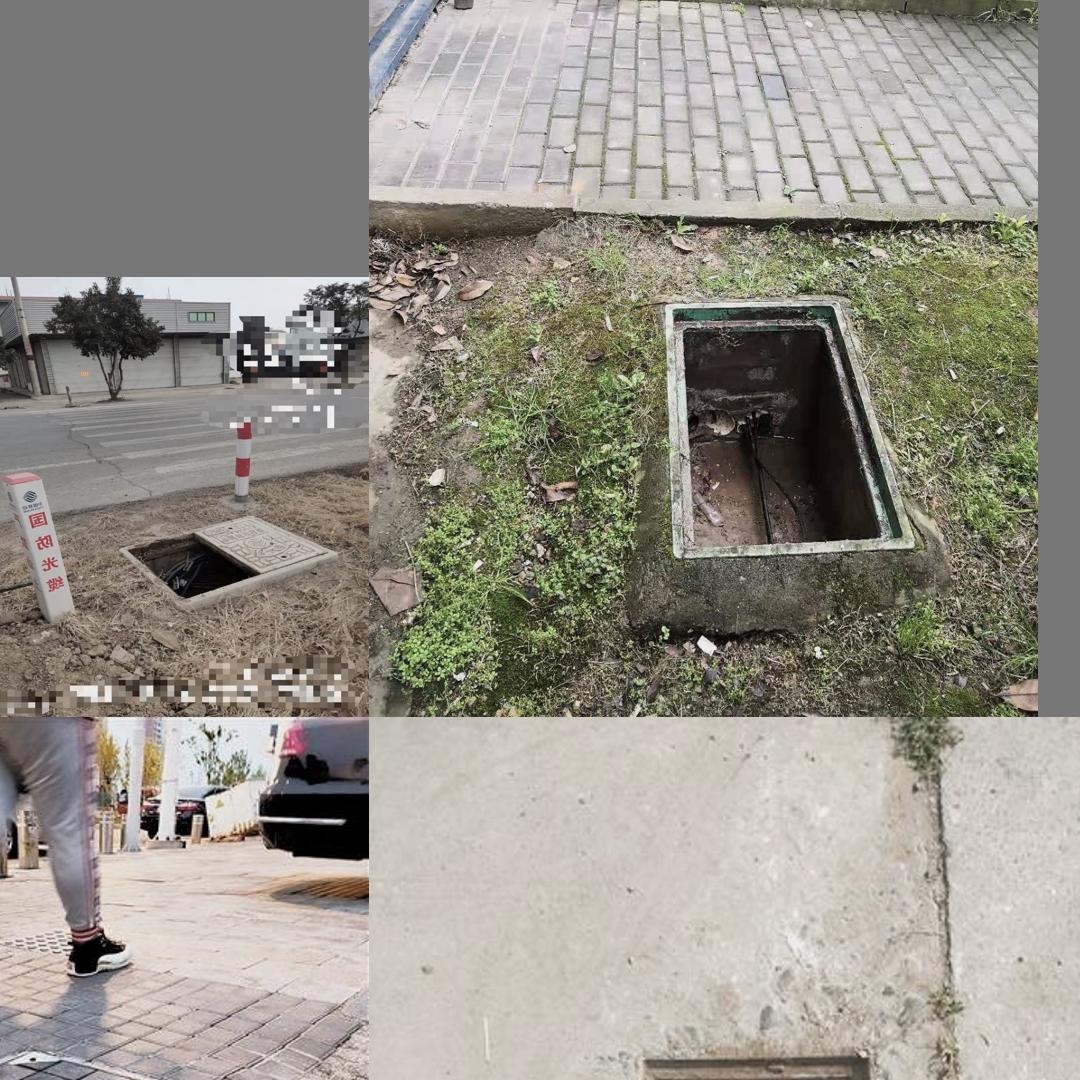lose: (660, 295, 910, 563), (107, 511, 341, 621), (582, 1014, 958, 1080), (0, 1047, 356, 1080)
